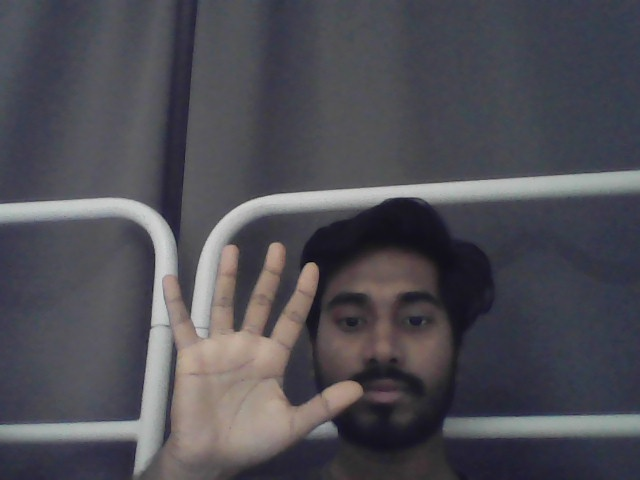hello: (161, 236, 366, 471)
